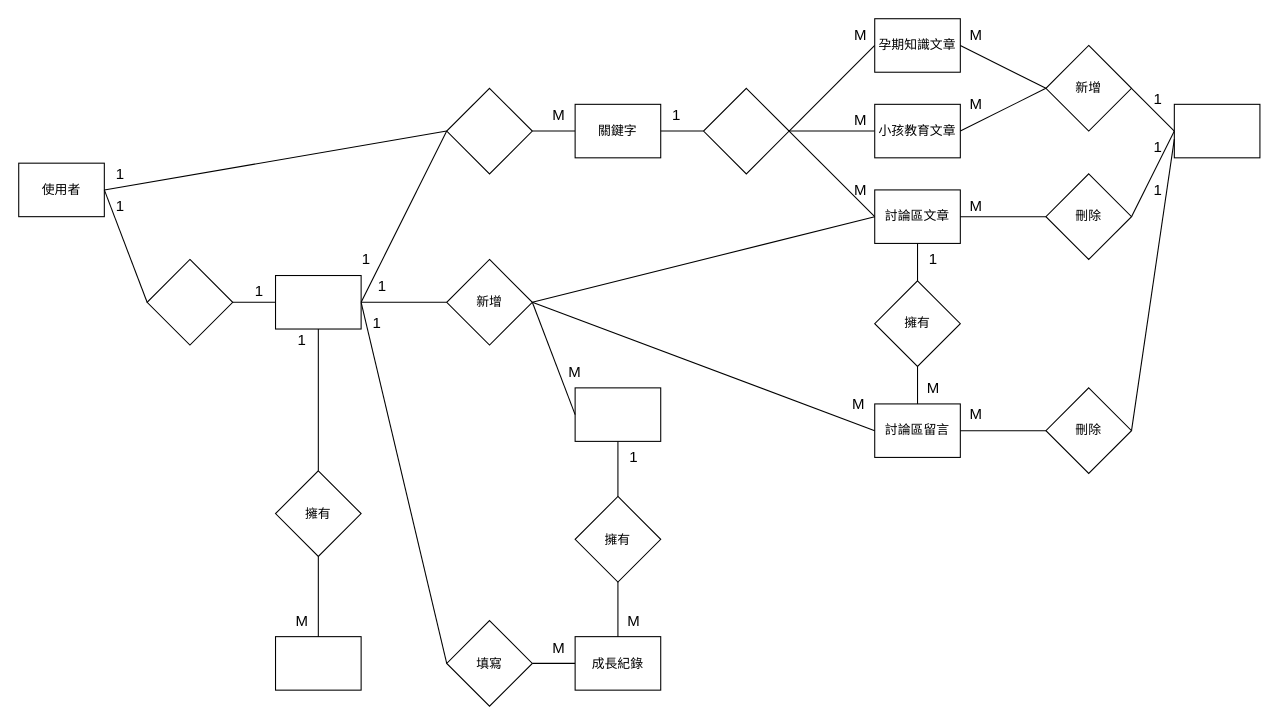
Image size: 1279x725. Some labels were removed from this diagram. Here are the shapes that lost their labels. From the top down, the box of each, then its label:
(446, 87, 532, 174): 輸入
(702, 87, 789, 174): 查詢
(1173, 103, 1260, 158): 管理者
(146, 258, 233, 345): 註冊
(274, 274, 361, 329): 會員
(574, 387, 661, 441): 寶寶資料
(274, 636, 361, 690): 日記
